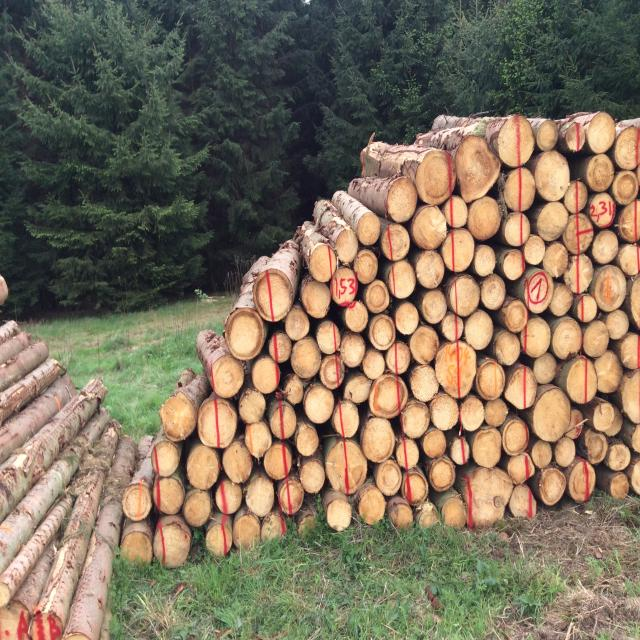wood-log: (454, 137, 502, 205), (464, 468, 513, 524), (324, 441, 368, 498), (436, 342, 479, 399), (532, 386, 573, 442), (415, 152, 455, 206), (198, 398, 240, 448), (224, 311, 266, 361), (494, 116, 534, 167), (257, 271, 294, 321), (533, 151, 569, 201), (160, 394, 198, 441), (359, 416, 396, 462), (504, 363, 540, 410), (594, 264, 629, 312), (157, 517, 191, 566), (563, 356, 597, 404), (187, 443, 222, 489), (500, 169, 535, 215), (412, 205, 448, 249), (441, 229, 477, 272), (370, 374, 404, 418), (526, 270, 560, 314), (562, 215, 596, 258), (469, 197, 502, 241), (222, 439, 254, 484), (448, 273, 481, 316), (212, 356, 244, 399), (387, 176, 418, 220), (292, 336, 324, 378), (304, 384, 336, 425), (204, 518, 233, 563), (535, 202, 569, 240), (551, 317, 582, 358), (614, 122, 640, 170), (408, 325, 439, 365), (594, 349, 622, 393), (472, 428, 502, 469), (520, 317, 550, 358), (247, 475, 276, 517), (300, 279, 332, 317), (264, 442, 296, 480), (278, 473, 306, 516), (478, 361, 508, 401), (583, 318, 612, 359), (587, 113, 616, 154), (567, 458, 594, 502), (155, 478, 188, 514), (464, 312, 494, 351), (566, 255, 596, 294), (122, 532, 155, 567), (184, 488, 214, 526), (414, 252, 444, 290), (360, 484, 388, 524), (539, 464, 567, 504), (331, 267, 359, 307), (408, 366, 439, 402), (402, 401, 432, 438), (122, 483, 152, 520), (233, 511, 260, 552), (432, 392, 461, 430), (620, 369, 640, 424), (387, 260, 415, 299), (271, 402, 299, 441), (591, 401, 621, 437), (381, 224, 410, 261), (586, 154, 615, 191), (588, 192, 617, 229), (309, 245, 337, 283), (154, 440, 183, 476), (244, 421, 272, 458), (493, 330, 522, 365), (592, 230, 620, 266), (254, 355, 281, 392), (544, 241, 570, 279), (334, 401, 360, 439), (217, 479, 244, 515), (370, 315, 397, 351), (548, 282, 575, 318), (333, 228, 360, 264), (376, 459, 402, 496), (340, 333, 367, 368), (240, 390, 267, 425), (299, 459, 326, 494), (440, 490, 466, 526), (321, 354, 348, 388), (504, 214, 531, 248), (510, 483, 537, 517), (619, 200, 640, 243), (481, 274, 506, 310), (459, 394, 484, 430), (503, 299, 530, 332), (366, 281, 392, 315), (420, 290, 446, 324), (582, 428, 607, 463), (283, 307, 310, 339), (532, 351, 558, 384), (614, 170, 640, 203), (562, 182, 588, 215), (508, 451, 534, 484), (353, 250, 378, 284), (328, 495, 352, 530), (504, 419, 528, 454), (386, 339, 410, 374), (387, 496, 412, 529), (396, 303, 421, 336), (296, 422, 320, 456), (618, 332, 640, 369), (501, 250, 526, 282), (315, 322, 338, 356), (605, 308, 631, 338), (361, 350, 387, 380), (346, 373, 371, 404), (474, 246, 498, 278), (345, 300, 369, 332), (432, 460, 456, 492), (535, 120, 559, 152), (263, 511, 287, 543), (446, 195, 469, 228), (422, 429, 447, 459), (358, 213, 380, 247), (398, 438, 422, 469), (406, 472, 429, 504), (523, 235, 546, 266), (618, 245, 640, 277), (609, 442, 633, 471), (441, 311, 463, 342), (484, 399, 508, 427), (575, 293, 597, 323), (554, 437, 576, 467), (531, 440, 552, 470), (284, 373, 304, 404), (273, 334, 292, 364), (566, 123, 583, 154), (452, 436, 469, 466), (611, 474, 631, 498), (630, 278, 640, 326), (630, 456, 640, 496), (0, 581, 12, 609), (630, 426, 640, 454)
